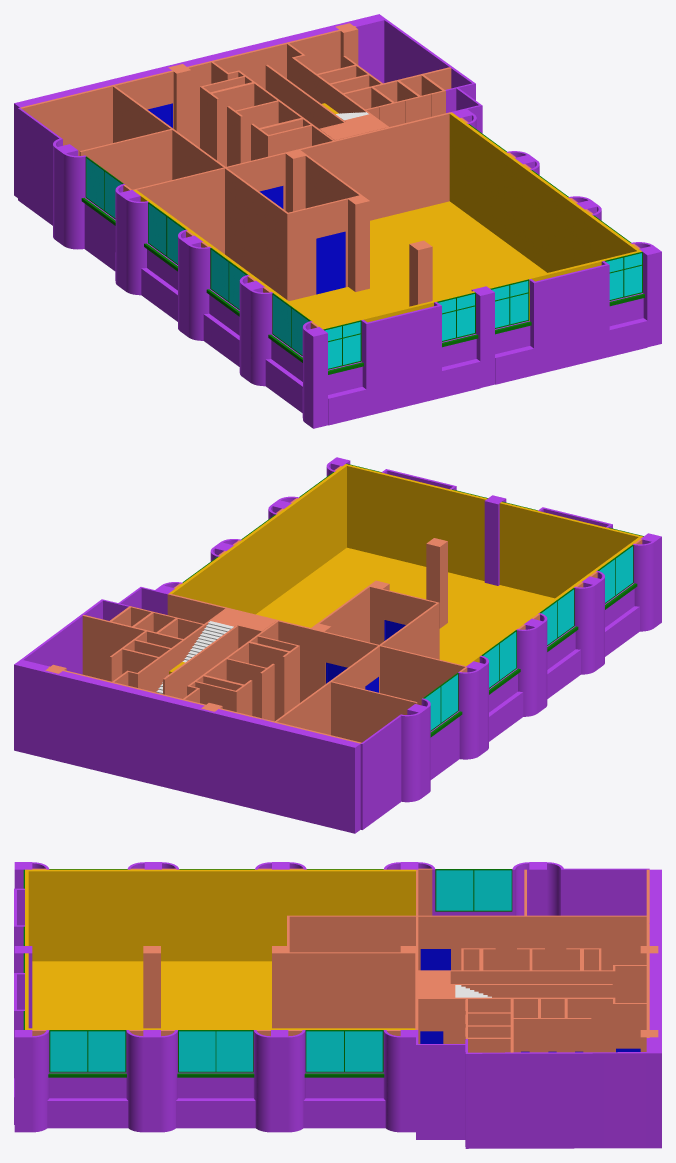
3 views of the same model, one above another, from view 1: azimuth 30°, elevation 25°; view 2: azimuth 150°, elevation 25°; view 3: azimuth 270°, elevation 25° (orthographic). The views are drawn at different scales.
Visible parts, largest first — view 1: 物件_233, 物件_65, 物件_181, 物件_2, 物件_305, 物件_298, 物件_225, 物件_218, 物件_200, 物件_195, 物件_337, 物件_227 (+55 smaller); view 2: 物件_337, 物件_65, 物件_233, 物件_253, 物件_254, 物件_2, 物件_336, 物件_218, 物件_227, 物件_174, 物件_181, 物件_226 (+35 smaller); view 3: 物件_255, 物件_211, 物件_65, 物件_212, 物件_226, 物件_225, 物件_1, 物件_132, 物件_2, 物件_336, 物件_337, 物件_287 (+43 smaller).
Boxes of the visible parts, <box> form: 物件_233: <box>449,113,641,272</box>; 物件_65: <box>289,201,546,327</box>; 物件_181: <box>299,112,452,220</box>; 物件_2: <box>200,70,322,166</box>; 物件_305: <box>361,302,441,416</box>; 物件_298: <box>529,261,609,375</box>; 物件_225: <box>225,168,287,298</box>; 物件_218: <box>132,161,251,253</box>; 物件_200: <box>187,30,340,147</box>; 物件_195: <box>20,78,141,155</box>; 物件_337: <box>14,14,386,197</box>; 物件_227: <box>79,129,172,189</box>; 物件_337: <box>14,659,360,833</box>; 物件_65: <box>256,547,554,665</box>; 物件_233: <box>169,464,347,614</box>; 物件_253: <box>347,464,487,580</box>; 物件_254: <box>499,502,639,598</box>; 物件_2: <box>187,629,299,721</box>; 物件_336: <box>360,715,401,829</box>; 物件_218: <box>355,639,466,705</box>; 物件_227: <box>331,681,417,742</box>; 物件_174: <box>82,615,182,680</box>; 物件_181: <box>167,593,310,702</box>; 物件_226: <box>275,657,364,734</box>; 物件_255: <box>25,869,416,961</box>; 物件_211: <box>468,1052,646,1148</box>; 物件_65: <box>32,961,271,1028</box>; 物件_212: <box>289,952,400,1028</box>; 物件_226: <box>453,915,646,970</box>; 物件_225: <box>289,915,415,952</box>; 物件_1: <box>443,997,615,1052</box>; 物件_132: <box>418,1044,465,1139</box>; 物件_2: <box>443,948,615,997</box>; 物件_336: <box>564,868,649,915</box>; 物件_337: <box>646,869,661,1148</box>; 物件_287: <box>50,1031,125,1071</box>.
Bounding box in the file's own units: 1170 × 271 × 1672.
